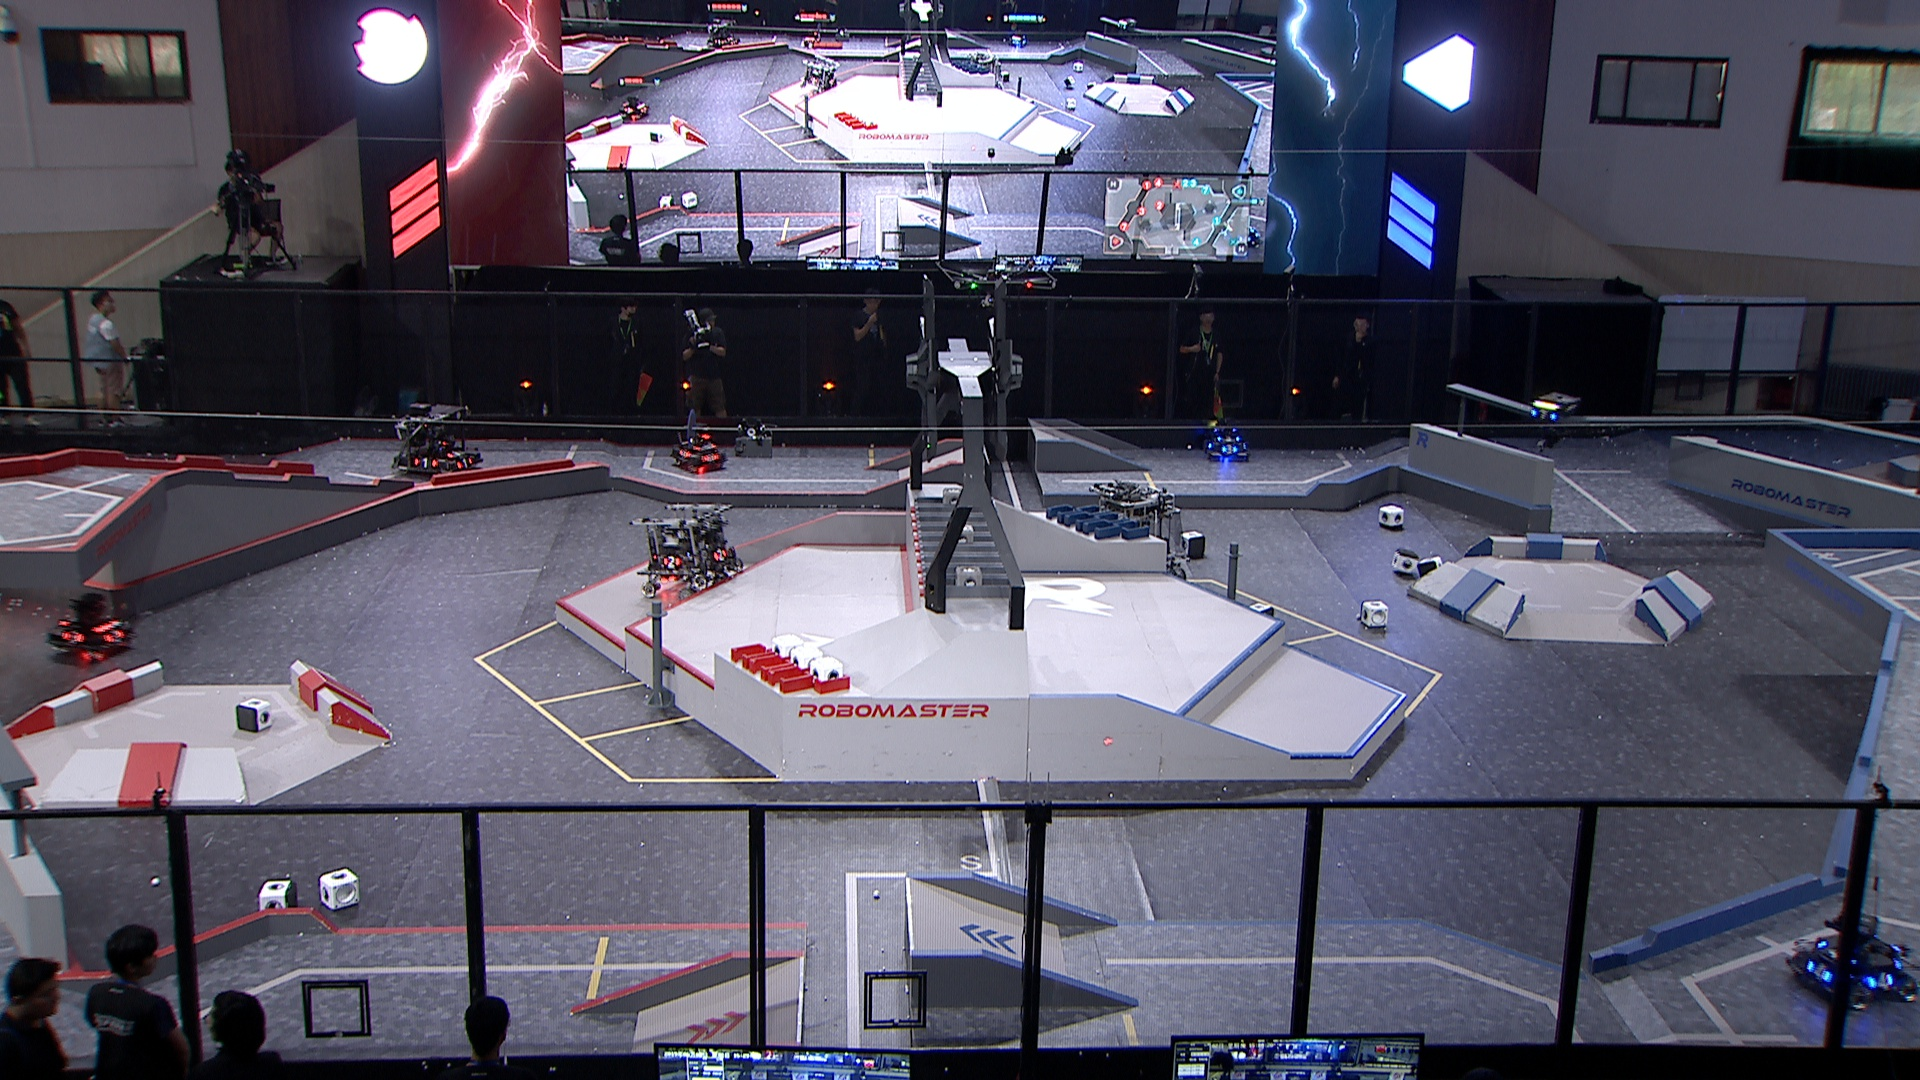armor: (1865, 965, 1899, 993), (1804, 955, 1833, 986), (102, 626, 131, 646), (413, 452, 440, 471), (1528, 407, 1556, 425), (57, 628, 83, 645), (659, 553, 683, 571), (446, 444, 471, 462), (454, 455, 476, 471), (694, 439, 717, 454), (713, 545, 731, 564), (1215, 433, 1242, 443), (700, 450, 721, 463), (1218, 444, 1240, 458), (679, 447, 694, 460)
car: (1787, 903, 1920, 1015), (624, 500, 749, 597), (1093, 481, 1192, 585), (386, 398, 485, 480), (44, 588, 138, 665), (669, 418, 731, 477), (1201, 419, 1254, 460)
ignore: (967, 50, 1007, 91), (804, 54, 840, 91), (705, 20, 741, 47), (618, 96, 650, 120), (799, 26, 822, 51), (1245, 223, 1265, 251), (1005, 26, 1029, 47)
watcher: (1531, 390, 1580, 454)
